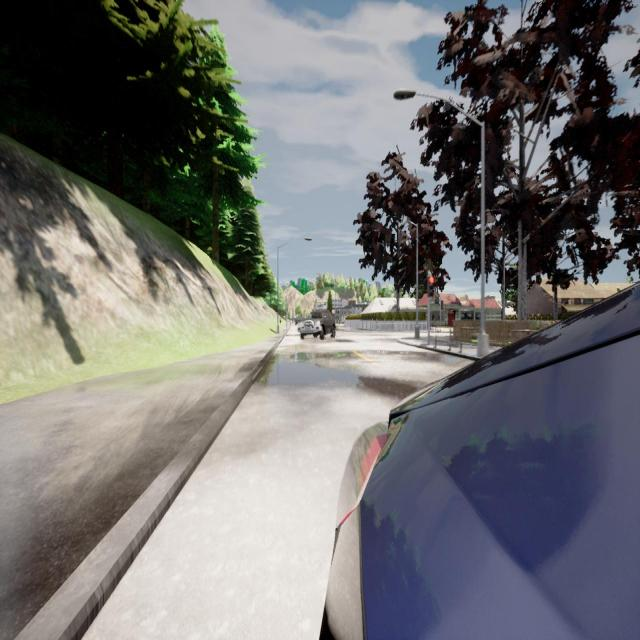Vehicle: (318, 285, 640, 640), (296, 310, 336, 340)
traffic_light: (427, 276, 434, 298), (441, 300, 444, 310)
